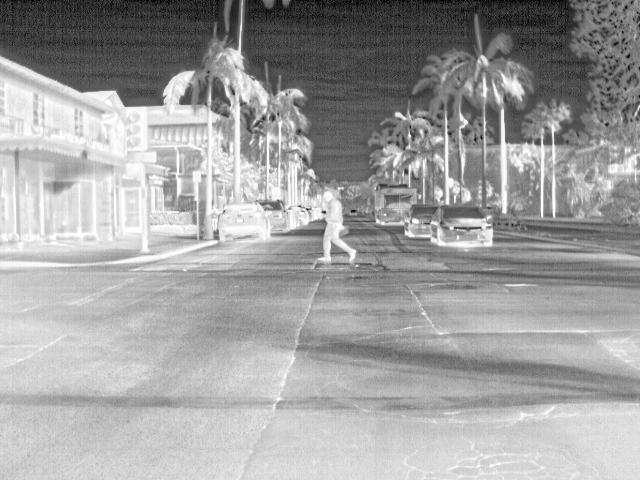car: (433, 204, 495, 248), (216, 203, 270, 242), (403, 203, 437, 239), (261, 200, 291, 232), (283, 206, 299, 228), (295, 206, 309, 224), (306, 206, 321, 220), (348, 206, 360, 217)
person: (317, 190, 360, 266)
